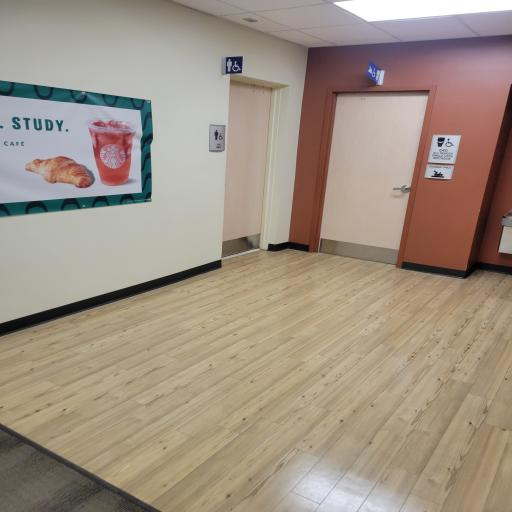bathroom sign: (428, 133, 462, 181), (364, 60, 396, 89)
door: (325, 87, 431, 266), (226, 83, 295, 257)
men bathroom sign: (204, 122, 231, 152), (222, 53, 248, 75)
